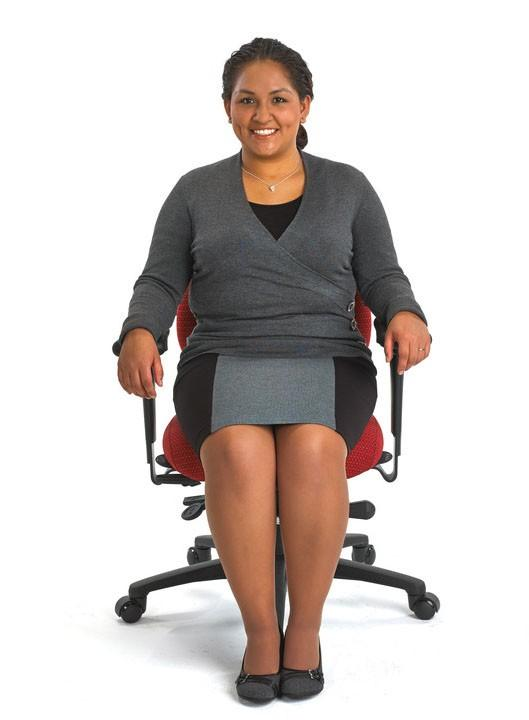Good Sitting Posture: (111, 35, 435, 704)
